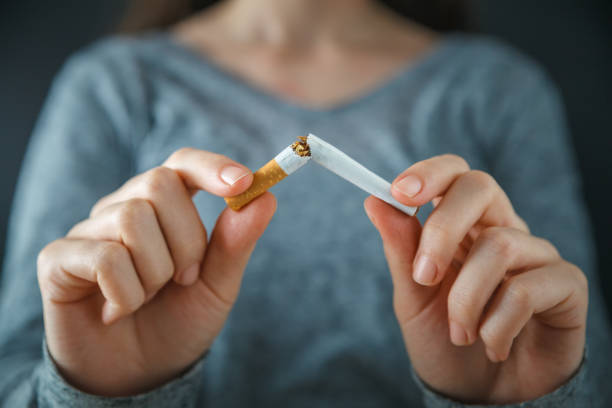cigarette: (303, 132, 422, 218), (221, 136, 312, 217)
